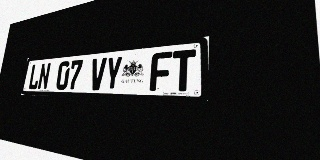0: (55, 61, 71, 90)
7: (67, 60, 83, 90)
F: (150, 51, 172, 91)
L: (28, 63, 41, 90)
N: (37, 63, 51, 90)
T: (171, 49, 196, 91)
V: (89, 57, 107, 90)
Y: (104, 56, 123, 91)
